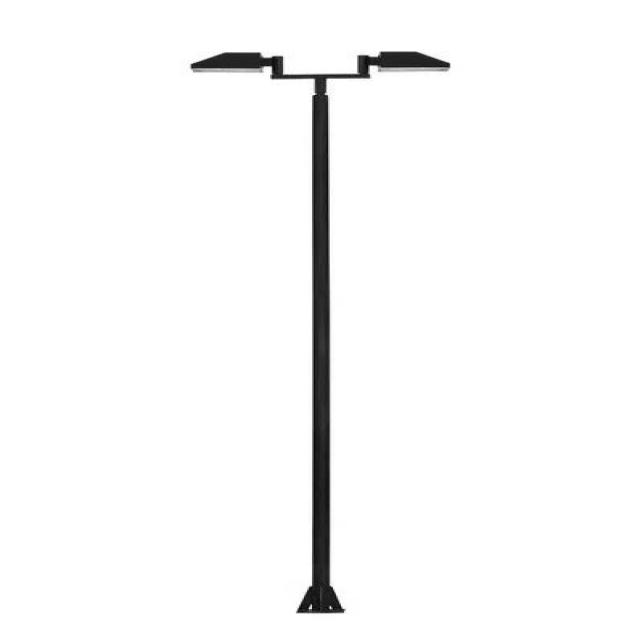Pole: (192, 51, 450, 614)
